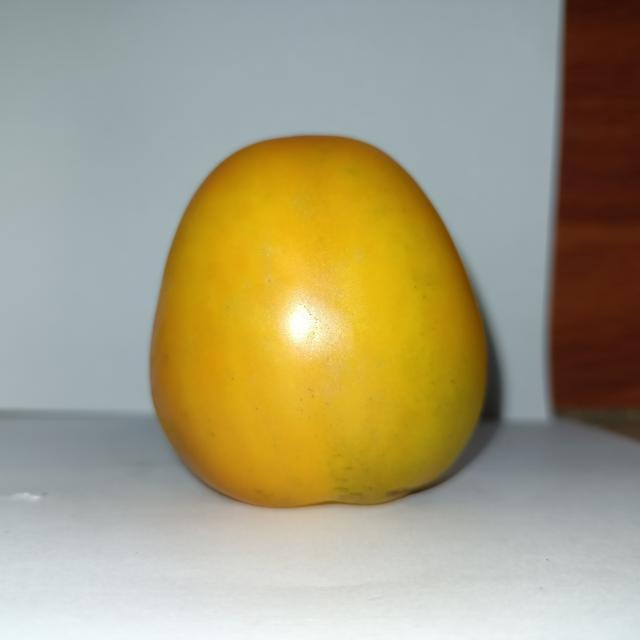Red: (147, 132, 491, 509)
